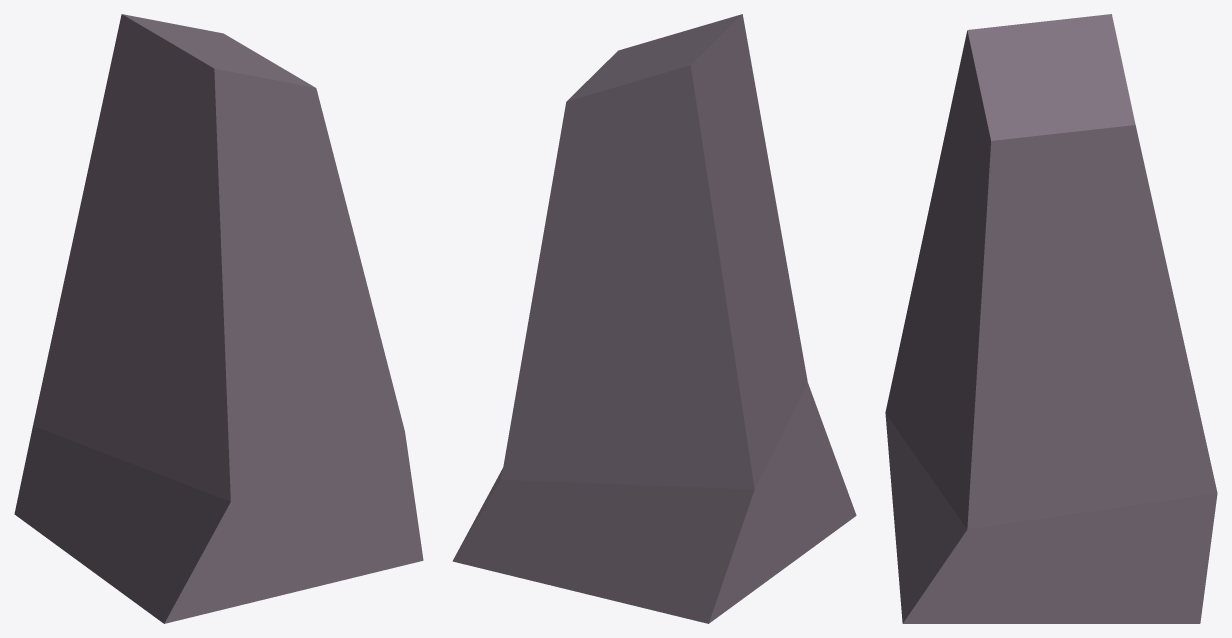
File: Rock_v06.fbx
The picture shows the model from 3 angles, left to right: view 1: azimuth 30°, elevation 25°; view 2: azimuth 150°, elevation 25°; view 3: azimuth 270°, elevation 25°; orthographic projection.
Visible parts, largest first — view 1: Rock_v06; view 2: Rock_v06; view 3: Rock_v06.
Boxes of the visible parts, x1,y1,x2,y2 form: Rock_v06: (14,14,423,623); Rock_v06: (452,14,856,623); Rock_v06: (885,14,1217,623).
Size of the model in its own units: 21.33 by 36.71 by 21.48.
1 material, 1 textured.
